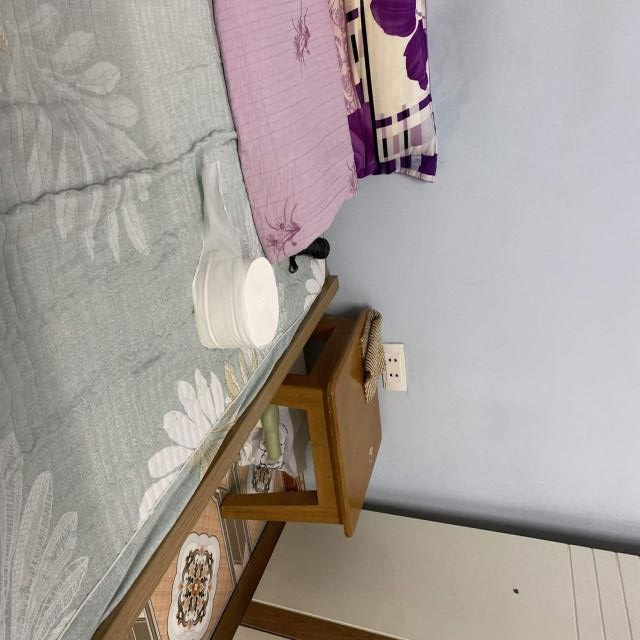outlet: (381, 342, 407, 391)
